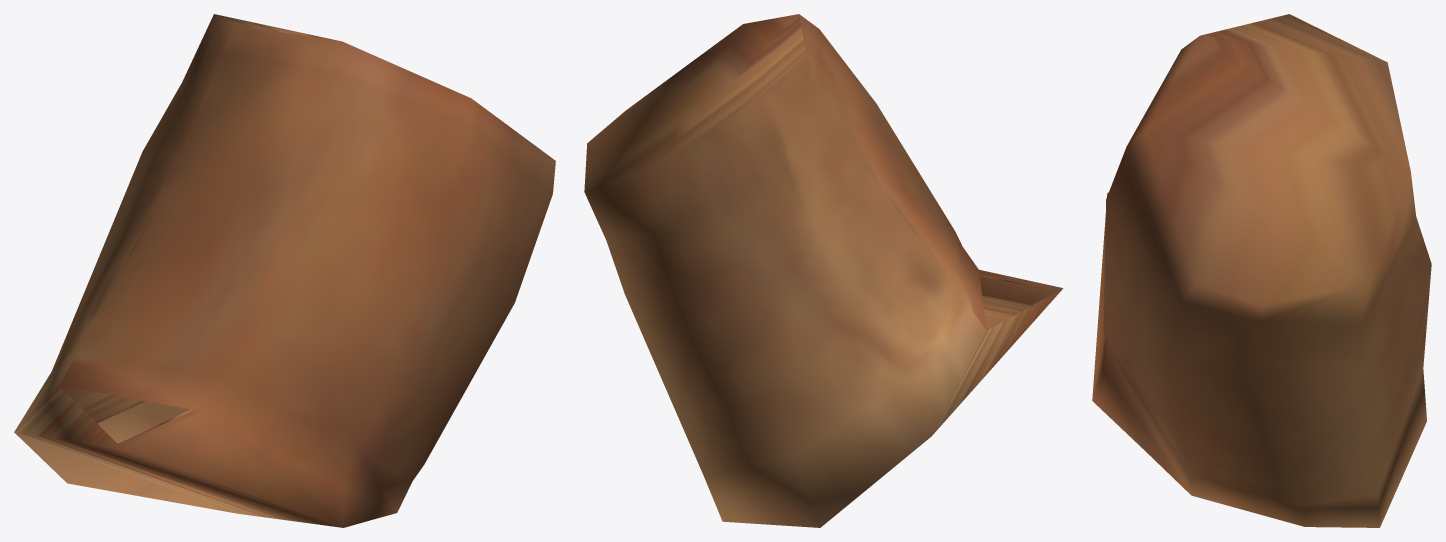
Rendered from pinky_01_l.dae.
3 views of the same model, side by side, from view 1: azimuth 30°, elevation 25°; view 2: azimuth 150°, elevation 25°; view 3: azimuth 270°, elevation 25° (orthographic). The views are drawn at different scales.
Visible parts, largest first — view 1: pinky_1_l; view 2: pinky_1_l; view 3: pinky_1_l.
Part boxes in pixels (x1,y1,x2,y2): pinky_1_l: (14,14,555,527); pinky_1_l: (584,14,1063,527); pinky_1_l: (1092,14,1431,527).
Bounding box in the file's own units: 0.0294 × 0.0192 × 0.0309.
1 material, 1 textured.
